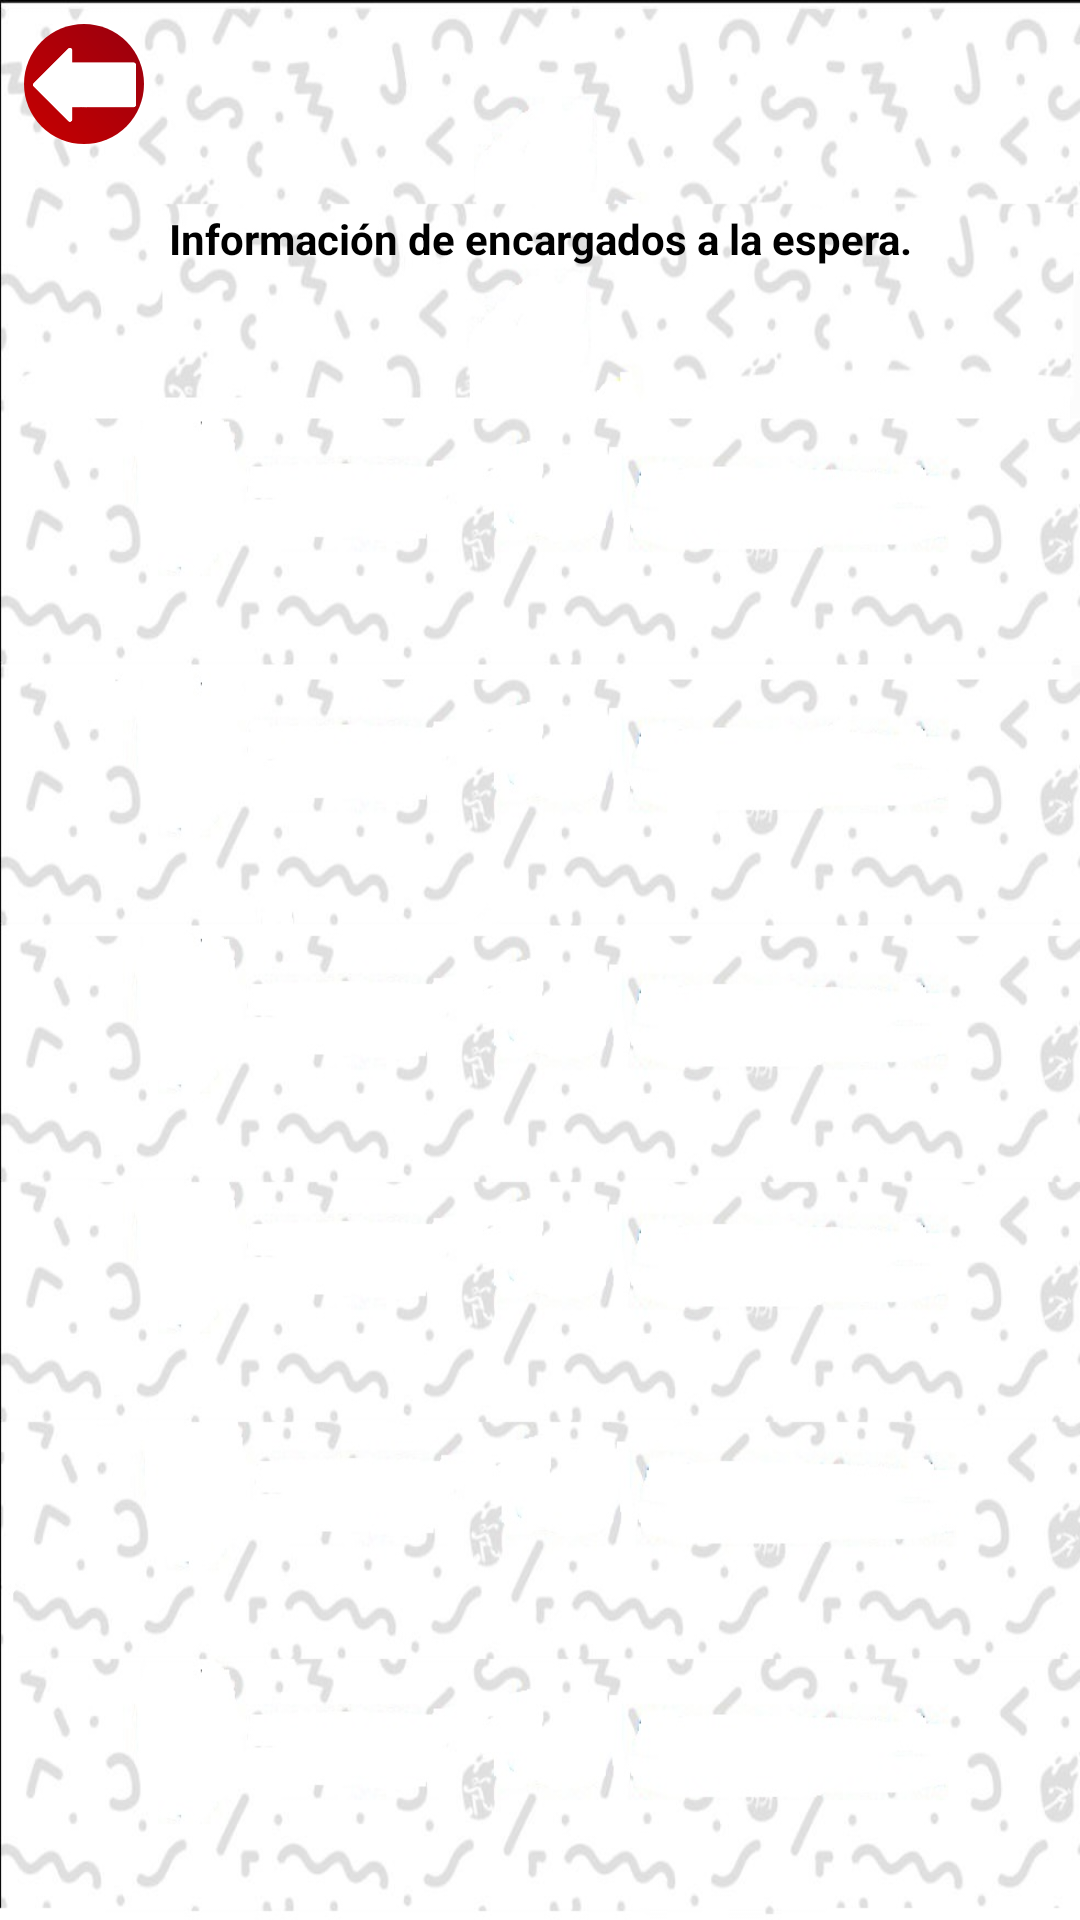

Named icons in this screenshot (1080px×1920px) and their bounding boxes, BBox(x1, y1, x2, y2):
back: BBox(24, 24, 144, 144)
